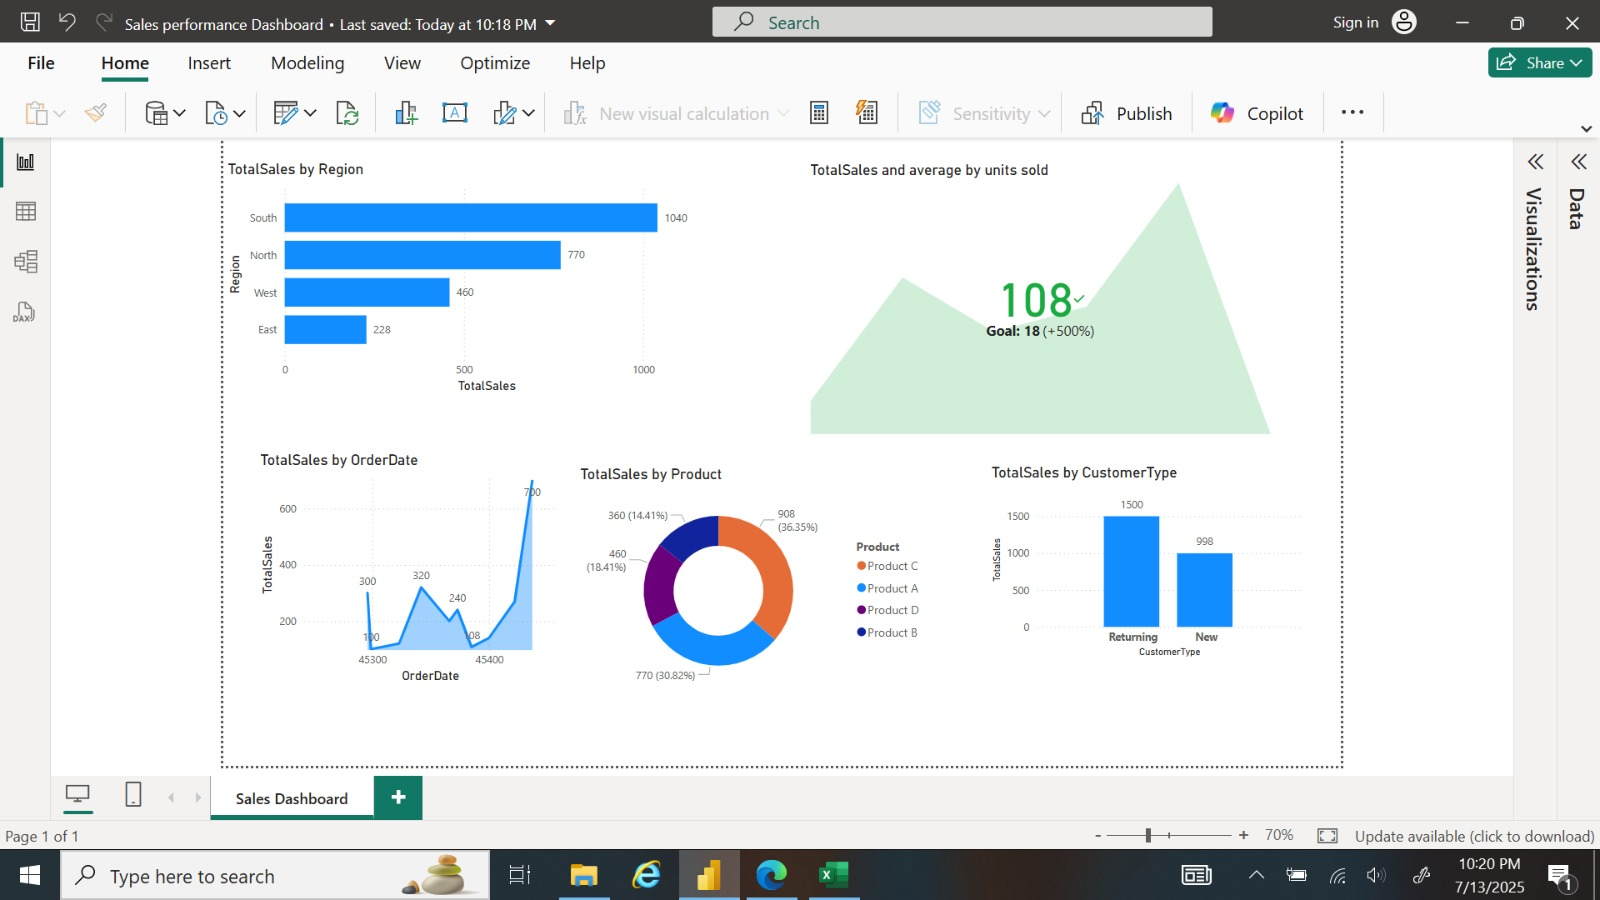

What the dashboard file says about the page in this screenshot:
{"tool":"powerbi","page":{"name":"Sales Dashboard","canvas":[1280,720],"ordinal":0},"visuals":[{"type":"barChart","fields":{"Category":["Sheet1.Region"],"Y":["Sum(Sheet1.TotalSales)"]},"box":[0,25.7,551.2,271],"z":0},{"type":"lineChart","fields":{"Category":["Sheet1.OrderDate"],"Y":["Sum(Sheet1.TotalSales)"]},"box":[37.9,358.9,355.8,269.5],"z":1000},{"type":"donutChart","fields":{"Category":["Sheet1.Product"],"Y":["Sum(Sheet1.TotalSales)"]},"box":[403.8,374.7,408.2,268.2],"z":2000},{"type":"clusteredColumnChart","fields":{"Category":["Sheet1.CustomerType"],"Y":["Sum(Sheet1.TotalSales)"]},"box":[875.2,374,364.9,225.6],"z":3000},{"type":"kpi","fields":{"Indicator":["Sum(Sheet1.TotalSales)"],"TrendLine":["Sheet1.Quantity"],"Goal":["Sum(Sheet1.UnitPrice)"]},"box":[667.8,27.3,537.5,318],"z":4000}]}

Visuals, with their boxes on the page's 1280x720 design canvas (x1, y1, x2, y2). These are canvas units, not pixel positions in the 1600x900 screenshot, which may show the page scaled, cropped or inside an application window:
barChart - Sheet1.Region x Sum(Sheet1.TotalSales): [x1=0, y1=26, x2=551, y2=297]
lineChart - Sheet1.OrderDate x Sum(Sheet1.TotalSales): [x1=38, y1=359, x2=394, y2=628]
donutChart - Sheet1.Product x Sum(Sheet1.TotalSales): [x1=404, y1=375, x2=812, y2=643]
clusteredColumnChart - Sheet1.CustomerType x Sum(Sheet1.TotalSales): [x1=875, y1=374, x2=1240, y2=600]
kpi - Sum(Sheet1.TotalSales) x Sheet1.Quantity: [x1=668, y1=27, x2=1205, y2=345]
